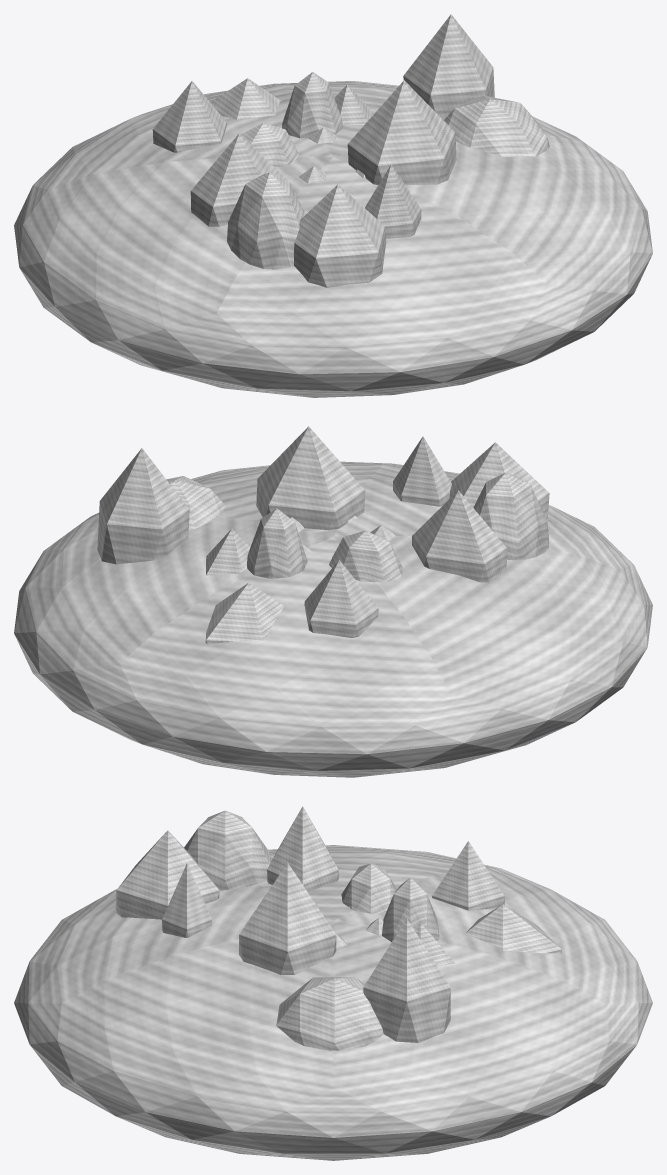
The model's file is copper_ore_node_variant_d.glb.
The picture shows the model from 3 angles, top to bottom: view 1: azimuth 30°, elevation 25°; view 2: azimuth 150°, elevation 25°; view 3: azimuth 270°, elevation 25°; orthographic projection.
Parts seen in each view (by area): view 1: Resource node bedrock.003, Exposed ore formation.047, Exposed ore formation.044, Exposed ore formation.043, Exposed ore formation.035, Exposed ore formation.034, Exposed ore formation.042, Exposed ore formation.039, Exposed ore formation.037, Exposed ore formation.045, Exposed ore formation.038, Exposed ore formation.040 (+1 smaller); view 2: Resource node bedrock.003, Exposed ore formation.035, Exposed ore formation.047, Exposed ore formation.042, Exposed ore formation.043, Exposed ore formation.039, Exposed ore formation.038, Exposed ore formation.037, Exposed ore formation.040, Exposed ore formation.045, Exposed ore formation.044, Exposed ore formation.034 (+1 smaller); view 3: Resource node bedrock.003, Exposed ore formation.035, Exposed ore formation.047, Exposed ore formation.034, Exposed ore formation.043, Exposed ore formation.044, Exposed ore formation.042, Exposed ore formation.039, Exposed ore formation.038, Exposed ore formation.045, Exposed ore formation.037, Exposed ore formation.040 (+1 smaller).
Boxes of the visible parts, left/top/right/bottom form: Resource node bedrock.003: left=14, top=81, right=652, bottom=397; Exposed ore formation.047: left=347, top=80, right=456, bottom=185; Exposed ore formation.044: left=294, top=184, right=386, bottom=287; Exposed ore formation.043: left=227, top=172, right=305, bottom=269; Exposed ore formation.035: left=403, top=14, right=494, bottom=120; Exposed ore formation.034: left=444, top=96, right=549, bottom=156; Exposed ore formation.042: left=190, top=133, right=285, bottom=226; Exposed ore formation.039: left=152, top=81, right=226, bottom=152; Exposed ore formation.037: left=282, top=72, right=342, bottom=138; Exposed ore formation.045: left=365, top=164, right=421, bottom=238; Exposed ore formation.038: left=210, top=78, right=280, bottom=119; Exposed ore formation.040: left=241, top=123, right=299, bottom=169; Resource node bedrock.003: left=14, top=461, right=652, bottom=777; Exposed ore formation.035: left=97, top=448, right=189, bottom=564; Exposed ore formation.047: left=256, top=426, right=365, bottom=530; Exposed ore formation.042: left=412, top=490, right=506, bottom=582; Exposed ore formation.043: left=473, top=472, right=548, bottom=560; Exposed ore formation.039: left=304, top=560, right=378, bottom=637; Exposed ore formation.038: left=205, top=582, right=284, bottom=644; Exposed ore formation.037: left=247, top=508, right=307, bottom=578; Exposed ore formation.040: left=329, top=530, right=402, bottom=582; Exposed ore formation.045: left=393, top=436, right=451, bottom=506; Exposed ore formation.044: left=449, top=442, right=549, bottom=521; Exposed ore formation.034: left=166, top=476, right=225, bottom=529; Resource node bedrock.003: left=14, top=845, right=652, bottom=1160; Exposed ore formation.035: left=363, top=918, right=450, bottom=1043; Exposed ore formation.047: left=239, top=863, right=336, bottom=974; Exposed ore formation.034: left=276, top=977, right=383, bottom=1050; Exposed ore formation.043: left=184, top=810, right=271, bottom=890; Exposed ore formation.044: left=116, top=830, right=219, bottom=919; Exposed ore formation.042: left=267, top=806, right=338, bottom=891; Exposed ore formation.039: left=432, top=841, right=504, bottom=910; Exposed ore formation.038: left=465, top=904, right=561, bottom=953; Exposed ore formation.045: left=162, top=863, right=211, bottom=937; Exposed ore formation.037: left=382, top=877, right=439, bottom=942; Exposed ore formation.040: left=341, top=863, right=397, bottom=913.
Size of what is drawn, in the model's own units: 6 by 2.55 by 6.
Materials: 2 (2 with a texture image).
